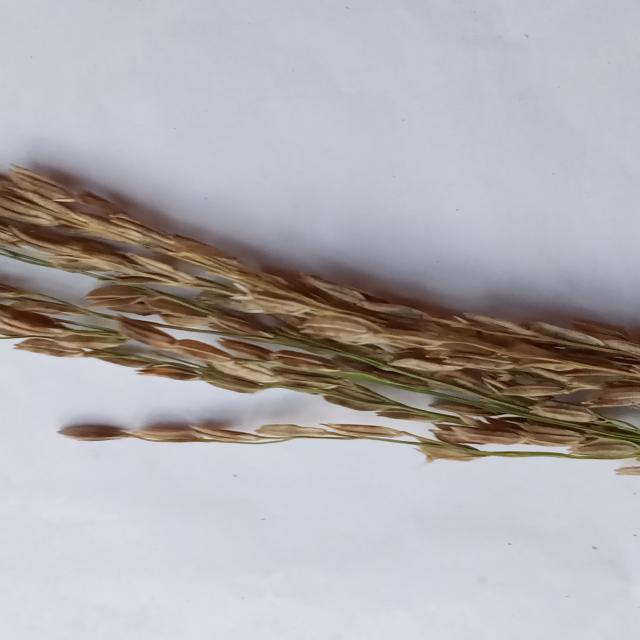Neck_Blast: (0, 172, 640, 474)
